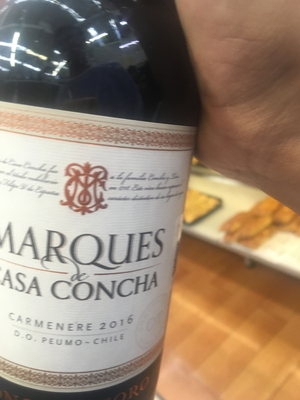marques de casa concha carmenere: (1, 25, 205, 400)
